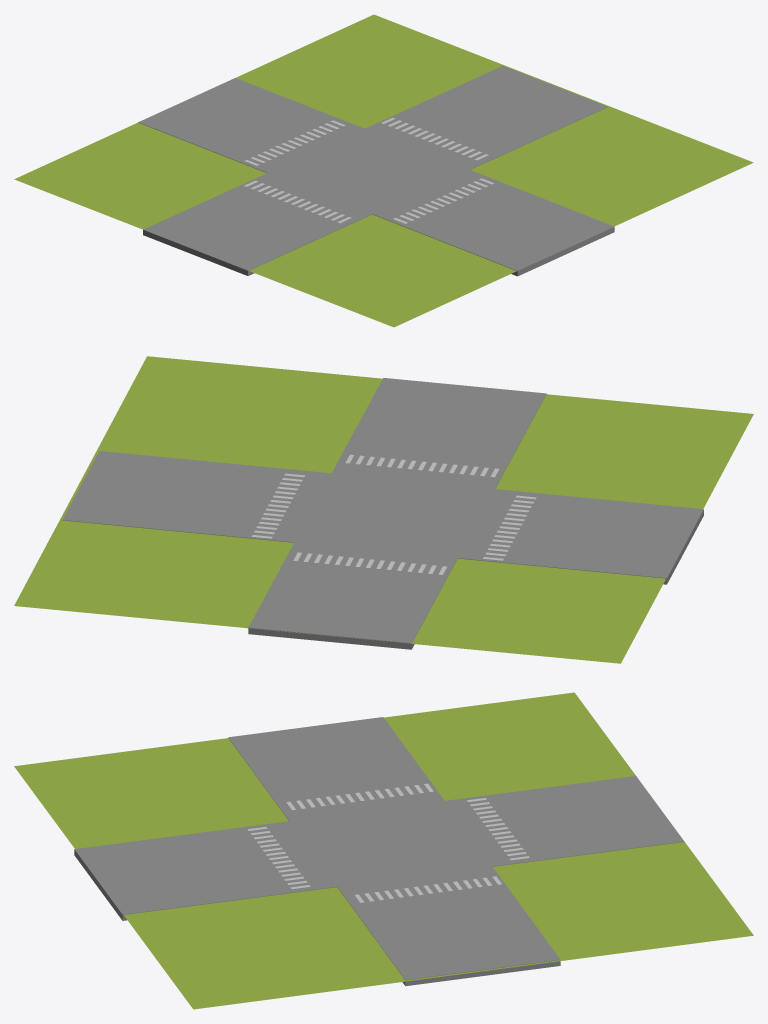
File: conflict_octree.fbx
The picture shows the model from 3 angles, top to bottom: view 1: azimuth 30°, elevation 25°; view 2: azimuth 150°, elevation 25°; view 3: azimuth 270°, elevation 25°; orthographic projection. The views are drawn at different scales.
Visible parts, largest first — view 1: Plane001, Line002, Dummy001; view 2: Plane001, Line002, Dummy001; view 3: Plane001, Line002, Dummy001.
Boxes of the visible parts, x1,y1,x2,y2 form: Plane001: (14, 14, 753, 327); Line002: (138, 66, 614, 276); Dummy001: (244, 117, 493, 223); Plane001: (14, 356, 753, 663); Line002: (62, 378, 703, 649); Dummy001: (251, 454, 536, 574); Plane001: (14, 692, 753, 1009); Line002: (74, 717, 684, 986); Dummy001: (247, 783, 529, 902).
Size of the model in its own units: 12036 by 112 by 11870.
